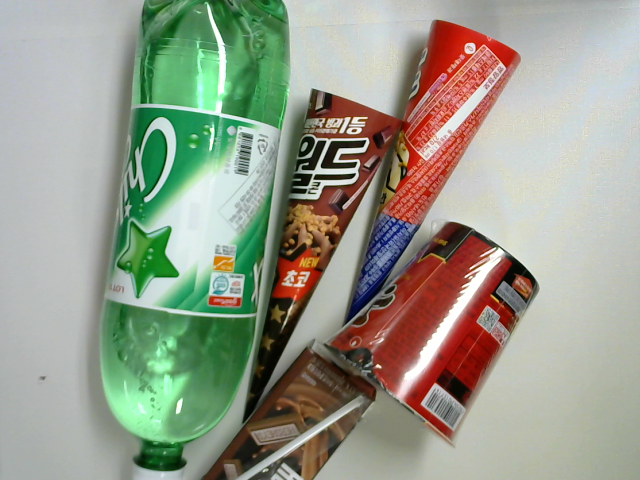Chilseong_Cider_1.5L: (99, 1, 288, 480)
Choco_E_Mong: (192, 338, 381, 480)
Sinramen_small: (322, 221, 542, 449)
World_Cone_Banila: (342, 18, 522, 330)
World_Cone_Choco: (239, 86, 407, 427)
